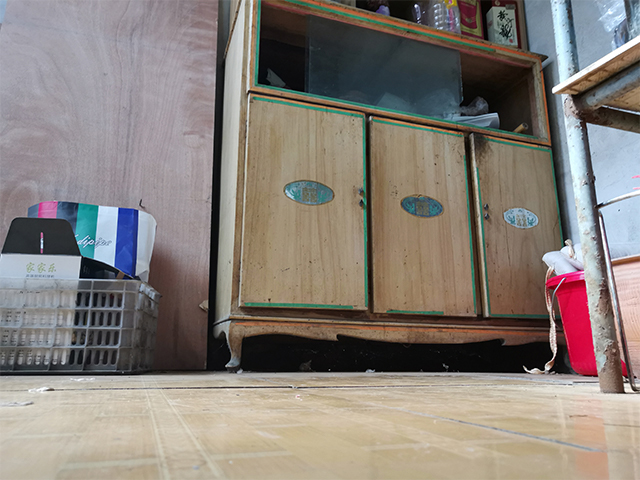cabinet: (211, 82, 559, 374)
trashcan: (545, 269, 597, 376)
